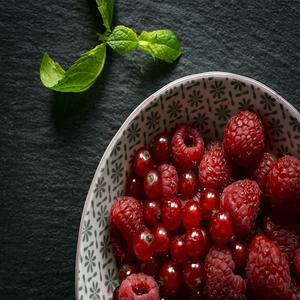raspb: (210, 107, 272, 173)
